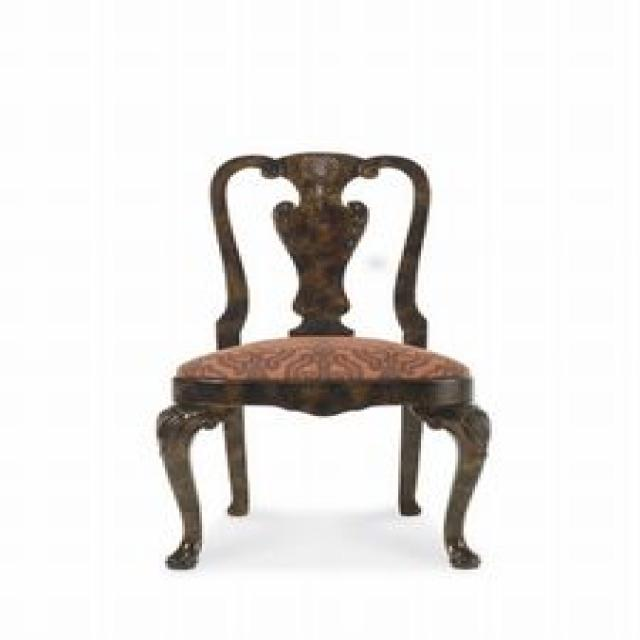chair: (153, 149, 494, 570)
